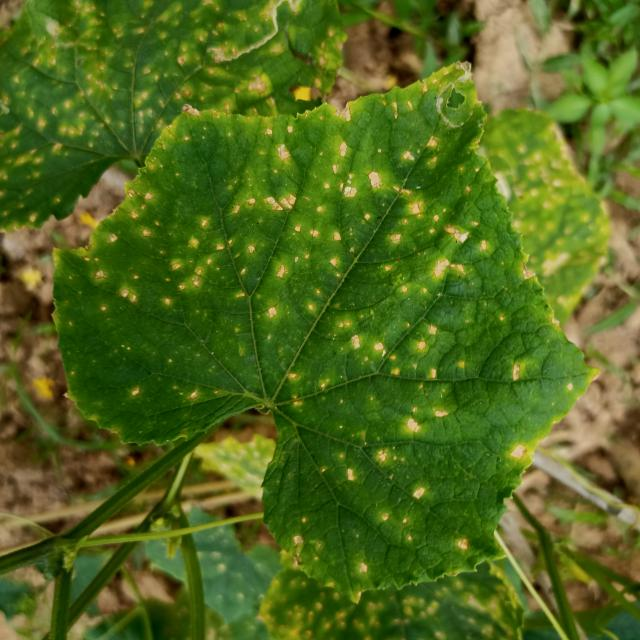disease_cucumber: (55, 90, 553, 386), (289, 390, 473, 572), (509, 443, 530, 462)
